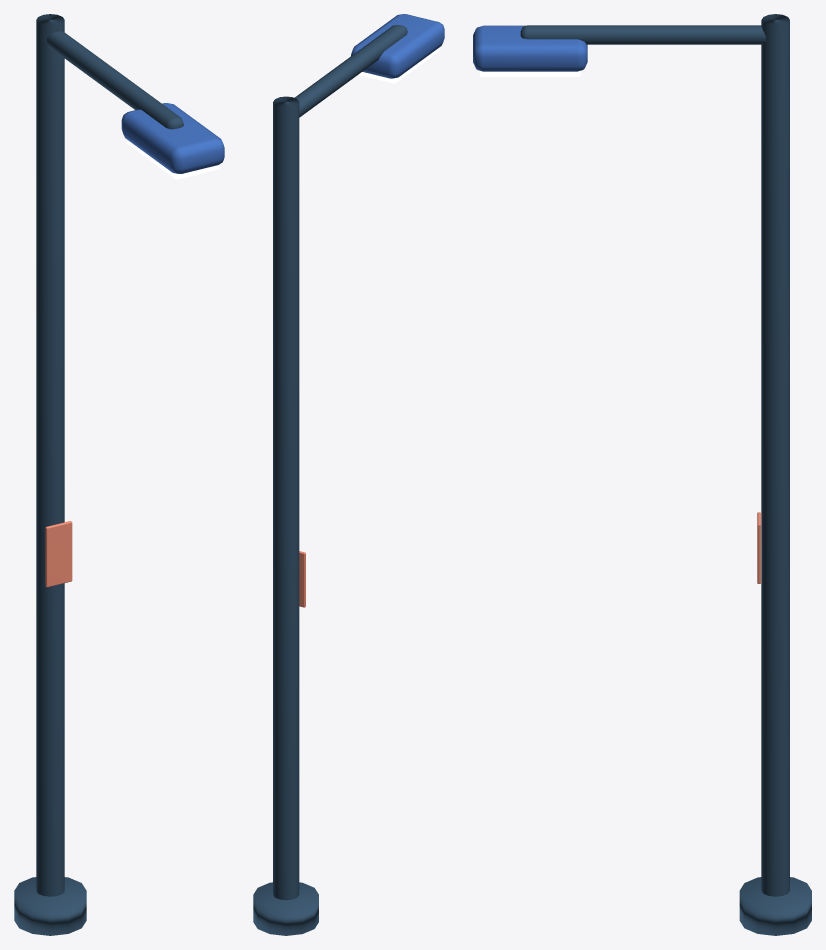
File: HL_Streetlight_Harbor.fbx
The picture shows the model from 3 angles, left to right: view 1: azimuth 30°, elevation 25°; view 2: azimuth 150°, elevation 25°; view 3: azimuth 270°, elevation 25°; orthographic projection. The views are drawn at different scales.
Visible parts, largest first — view 1: Pole | tapered column, Lamp | cowl, Base | flanged foot, Arm | waterfront sweep, Pole | coral district marker, Lamp | warm diffuser; view 2: Pole | tapered column, Lamp | cowl, Base | flanged foot, Arm | waterfront sweep; view 3: Pole | tapered column, Arm | waterfront sweep, Lamp | cowl, Base | flanged foot.
Boxes of the visible parts, x1=… form: Pole | tapered column: x1=36, y1=14, x2=64, y2=896; Lamp | cowl: x1=121, y1=103, x2=224, y2=173; Base | flanged foot: x1=14, y1=877, x2=86, y2=935; Arm | waterfront sweep: x1=47, y1=31, x2=183, y2=129; Pole | coral district marker: x1=45, y1=521, x2=72, y2=587; Lamp | warm diffuser: x1=126, y1=140, x2=219, y2=179; Pole | tapered column: x1=273, y1=96, x2=299, y2=900; Lamp | cowl: x1=351, y1=14, x2=444, y2=78; Base | flanged foot: x1=253, y1=882, x2=318, y2=935; Arm | waterfront sweep: x1=294, y1=25, x2=407, y2=117; Pole | tapered column: x1=761, y1=14, x2=789, y2=896; Arm | waterfront sweep: x1=520, y1=25, x2=765, y2=44; Lamp | cowl: x1=473, y1=25, x2=587, y2=71; Base | flanged foot: x1=739, y1=877, x2=811, y2=935.
Bounding box in the file's own units: 48 × 660 × 225.
